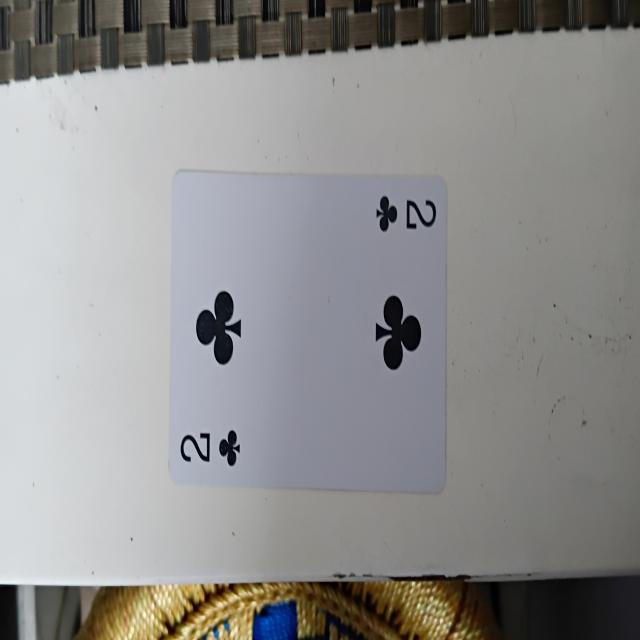2C: (170, 171, 446, 495)
